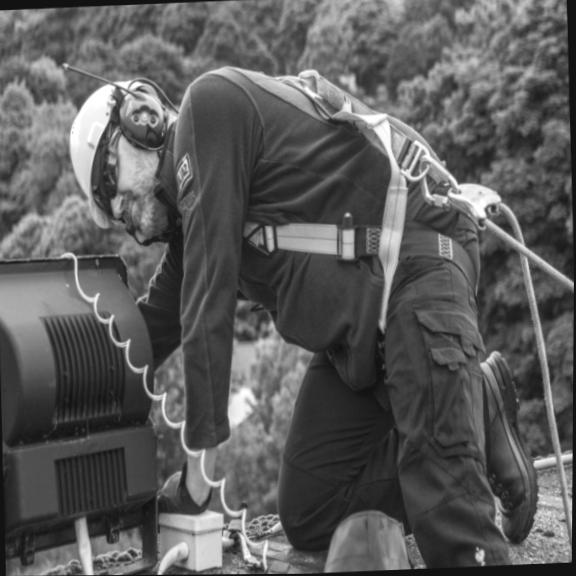no_safety_vest: (169, 61, 440, 331)
